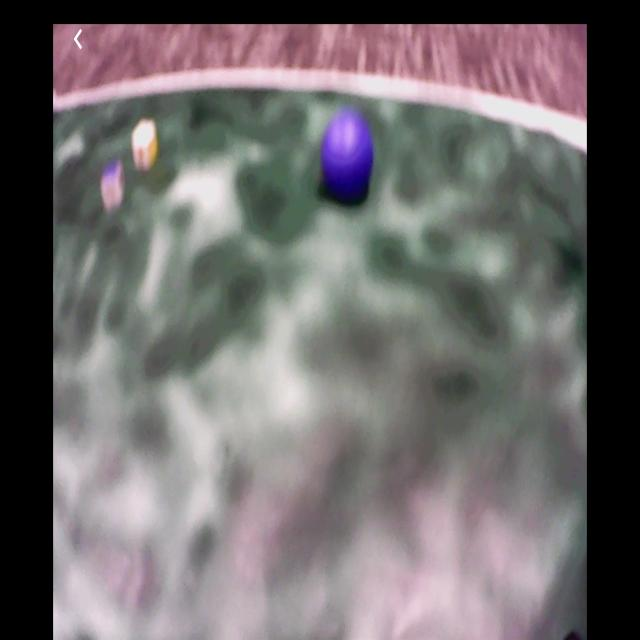ball: (323, 105, 374, 201)
